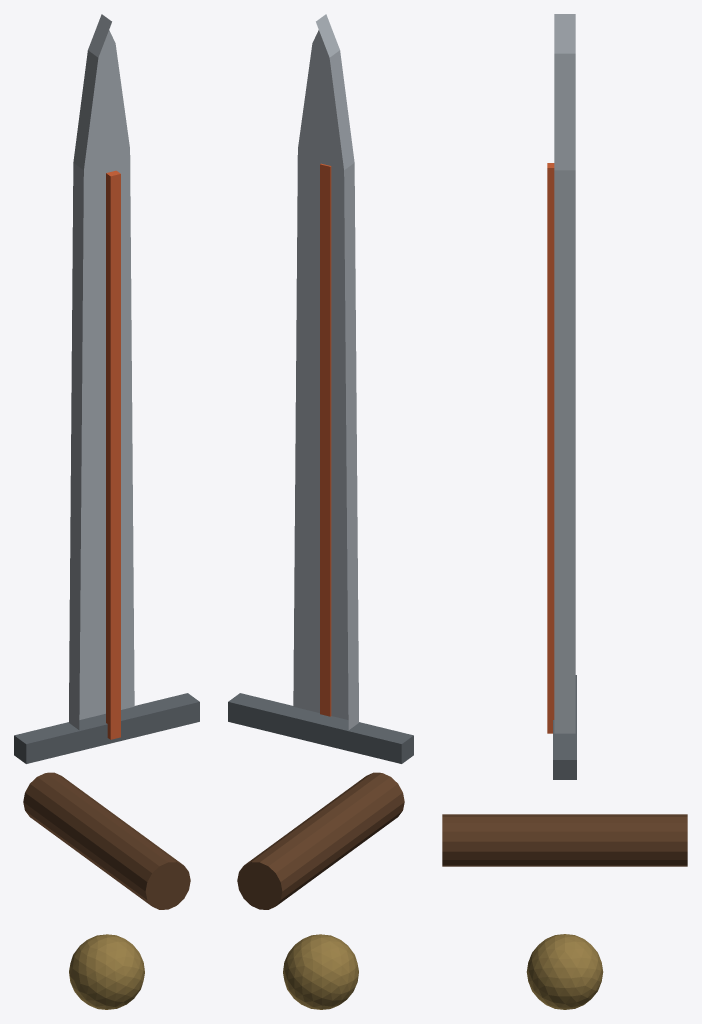
Rendered from longsword.glb.
The picture shows the model from 3 angles, left to right: view 1: azimuth 30°, elevation 25°; view 2: azimuth 150°, elevation 25°; view 3: azimuth 270°, elevation 25°; orthographic projection.
Parts seen in each view (by area): view 1: longsword_2, longsword_0, longsword_4, longsword_1, longsword_3; view 2: longsword_2, longsword_0, longsword_4, longsword_1, longsword_3; view 3: longsword_2, longsword_0, longsword_3, longsword_4, longsword_1.
Boxes of the visible parts, <box> form: longsword_2: <box>69,14,134,729</box>; longsword_0: <box>23,772,190,909</box>; longsword_4: <box>106,170,120,739</box>; longsword_1: <box>14,693,199,763</box>; longsword_3: <box>69,934,144,1009</box>; longsword_2: <box>293,14,358,729</box>; longsword_0: <box>237,772,404,909</box>; longsword_4: <box>320,163,331,716</box>; longsword_1: <box>228,693,413,763</box>; longsword_3: <box>283,934,358,1009</box>; longsword_2: <box>554,14,575,733</box>; longsword_0: <box>442,814,687,866</box>; longsword_3: <box>526,934,603,1009</box>; longsword_4: <box>547,163,554,733</box>; longsword_1: <box>553,675,576,779</box>.
Size of the model in its own units: 1 by 5.44 by 1.22.
